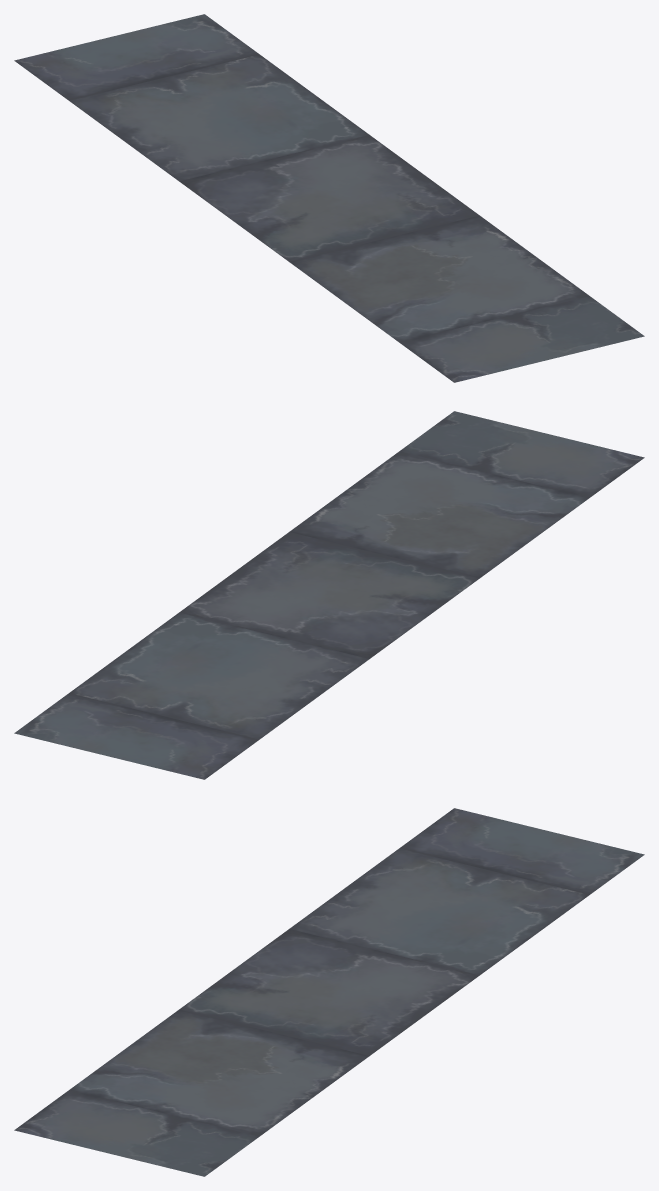
The model's file is Castle Ground X Dark 1x4.fbx.
The picture shows the model from 3 angles, top to bottom: view 1: azimuth 30°, elevation 25°; view 2: azimuth 150°, elevation 25°; view 3: azimuth 330°, elevation 25°; orthographic projection.
Visible parts, largest first — view 1: Castle Ground X Dark 1x4; view 2: Castle Ground X Dark 1x4; view 3: Castle Ground X Dark 1x4.
Part boxes in pixels (x1=…): Castle Ground X Dark 1x4: x1=14, y1=14, x2=644, y2=382; Castle Ground X Dark 1x4: x1=14, y1=411, x2=644, y2=779; Castle Ground X Dark 1x4: x1=14, y1=808, x2=644, y2=1176.
Bounding box in the file's own units: 0.75 × 6.81e-07 × 3.
